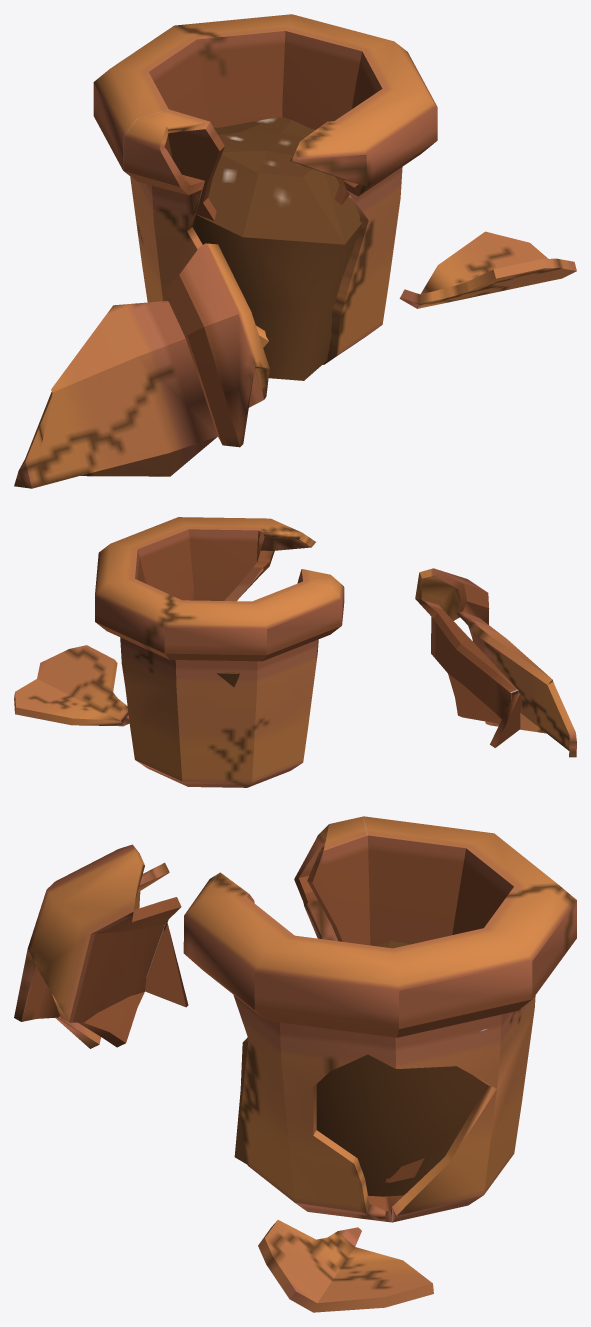
The model's file is Pot_broken.fbx.
3 renders of one model, top to bottom at view 1: azimuth 30°, elevation 25°; view 2: azimuth 150°, elevation 25°; view 3: azimuth 270°, elevation 25°, orthographic. The views are drawn at different scales.
Parts seen in each view (by area): view 1: Pot_broken; view 2: Pot_broken; view 3: Pot_broken.
Boxes of the visible parts, bbox=[...] form: Pot_broken: bbox=[14, 14, 576, 488]; Pot_broken: bbox=[14, 517, 576, 787]; Pot_broken: bbox=[14, 816, 576, 1312].
Bounding box in the file's own units: 73.79 × 50.49 × 28.41.
Materials: 1 (1 with a texture image).
